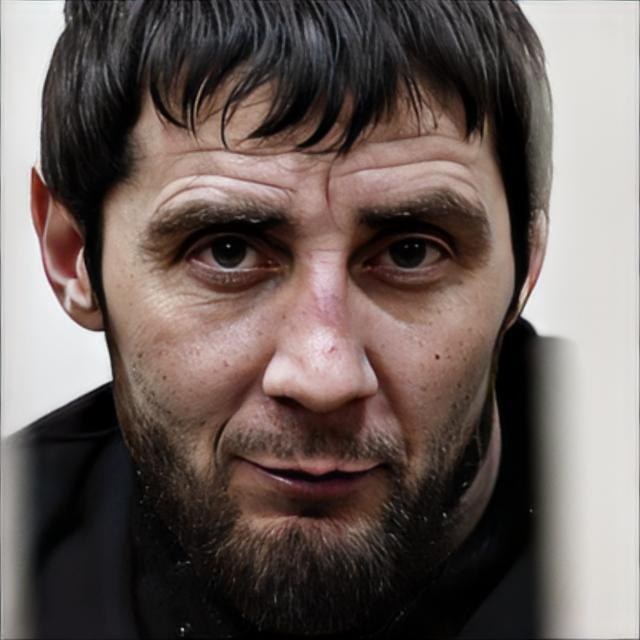content: (109, 38, 514, 583)
